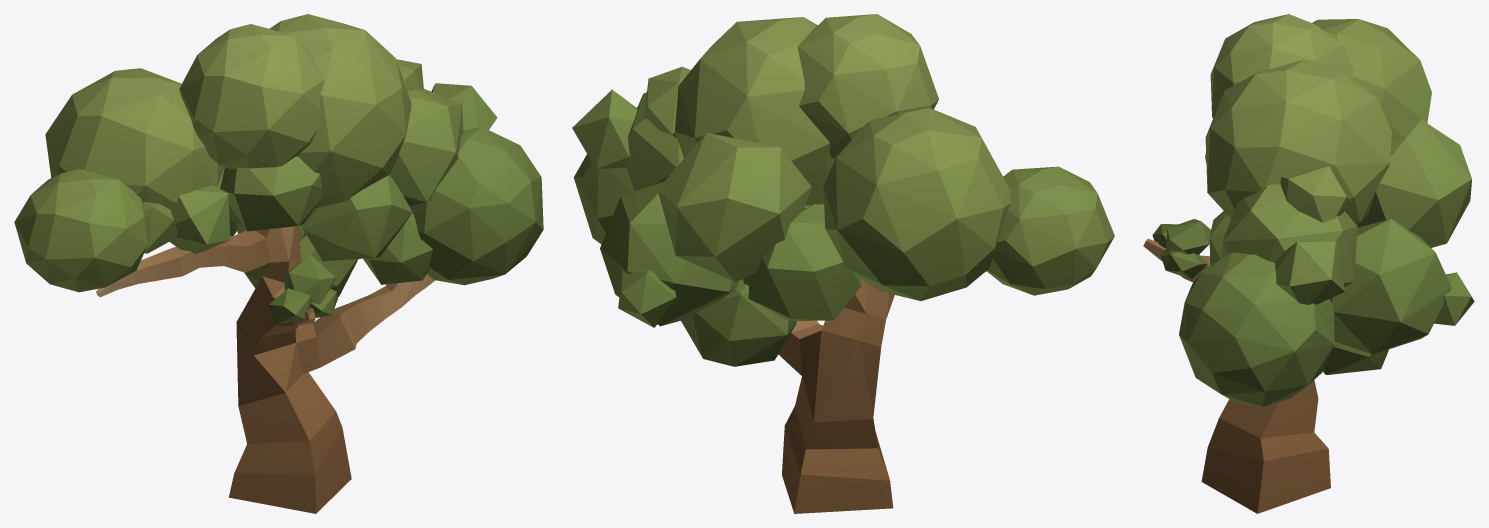
Rendered from Tree_01.fbx.
3 views of the same model, side by side, from view 1: azimuth 30°, elevation 25°; view 2: azimuth 150°, elevation 25°; view 3: azimuth 270°, elevation 25° (orthographic). The views are drawn at different scales.
Visible parts, largest first — view 1: Tree_01_LOD0; view 2: Tree_01_LOD0; view 3: Tree_01_LOD0.
Boxes of the visible parts, x1=… form: Tree_01_LOD0: x1=14, y1=14, x2=543, y2=513; Tree_01_LOD0: x1=572, y1=14, x2=1114, y2=513; Tree_01_LOD0: x1=1143, y1=14, x2=1474, y2=513.
Size of what is drawn, in the model's own units: 3.74 by 3.28 by 2.18.
